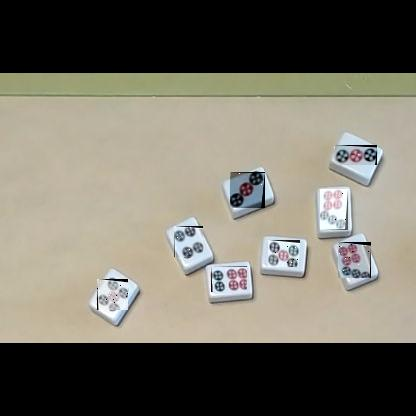3p: (230, 172, 265, 208), (334, 145, 377, 165)
4p: (174, 226, 203, 257)
5p: (97, 279, 128, 310), (268, 240, 300, 267)
6p: (211, 266, 247, 292)
7p: (338, 242, 371, 278), (320, 189, 348, 230)
